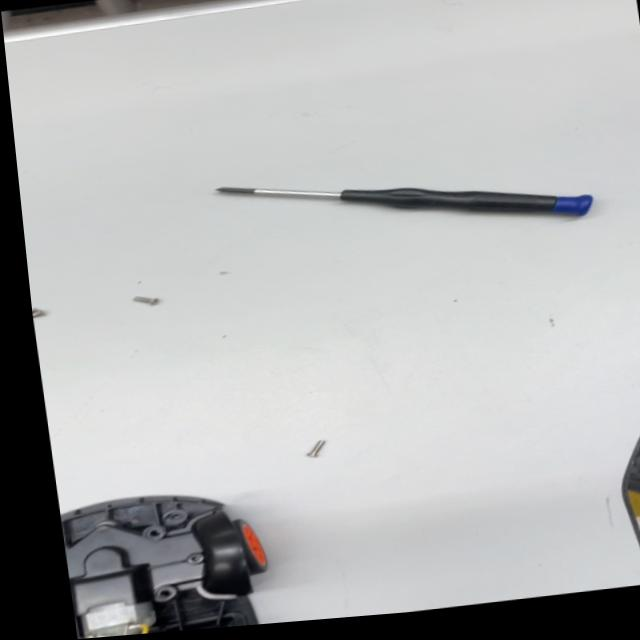screw: (129, 289, 167, 313)
screw_driver: (200, 135, 610, 265)
